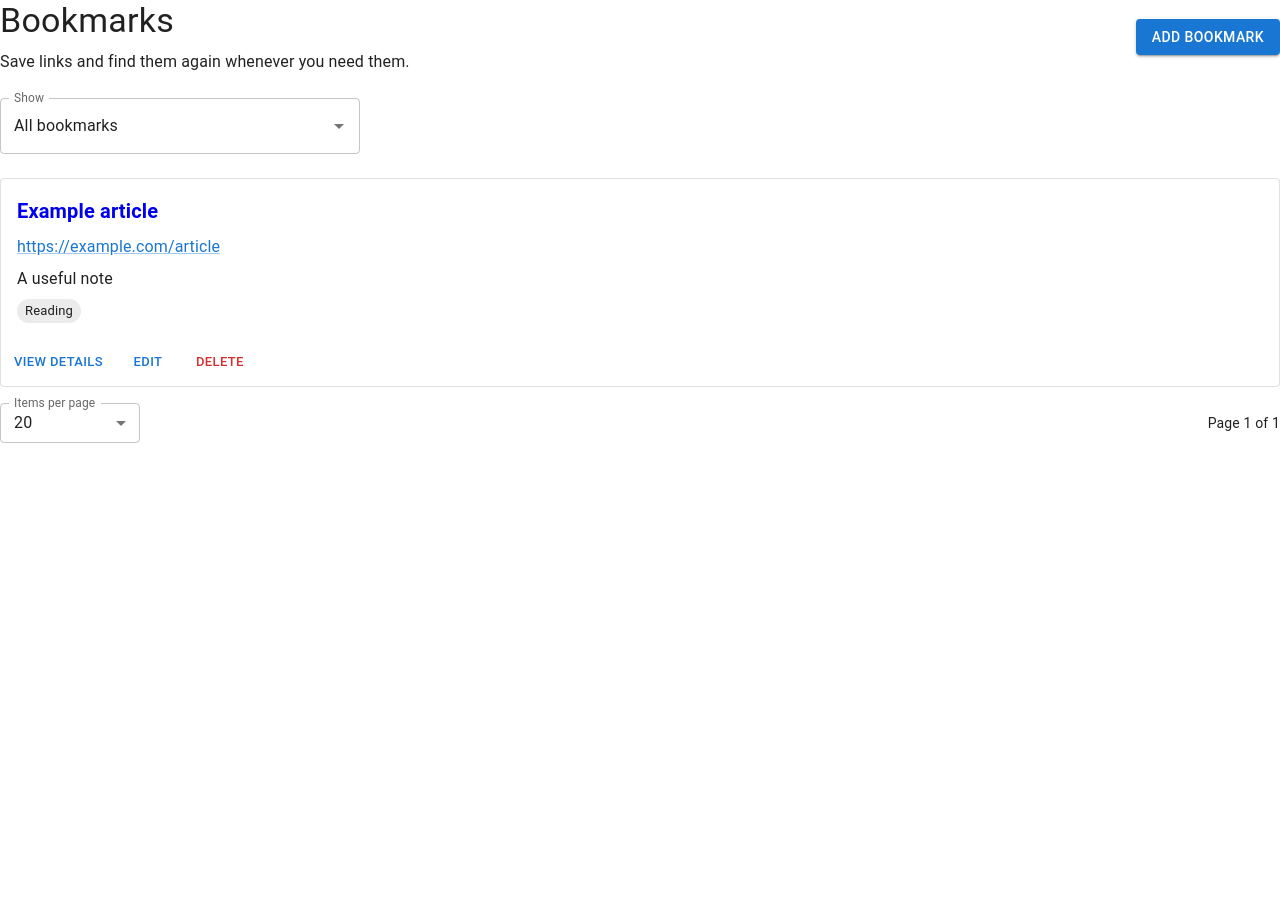
BookmarksPage › creates through the shared dialog and refreshes the active page after success
Expected: the link "Example article" is shown, [17,199,158,223]
Click the button "Add bookmark" at (1208, 37), box [1136,19,1279,55]
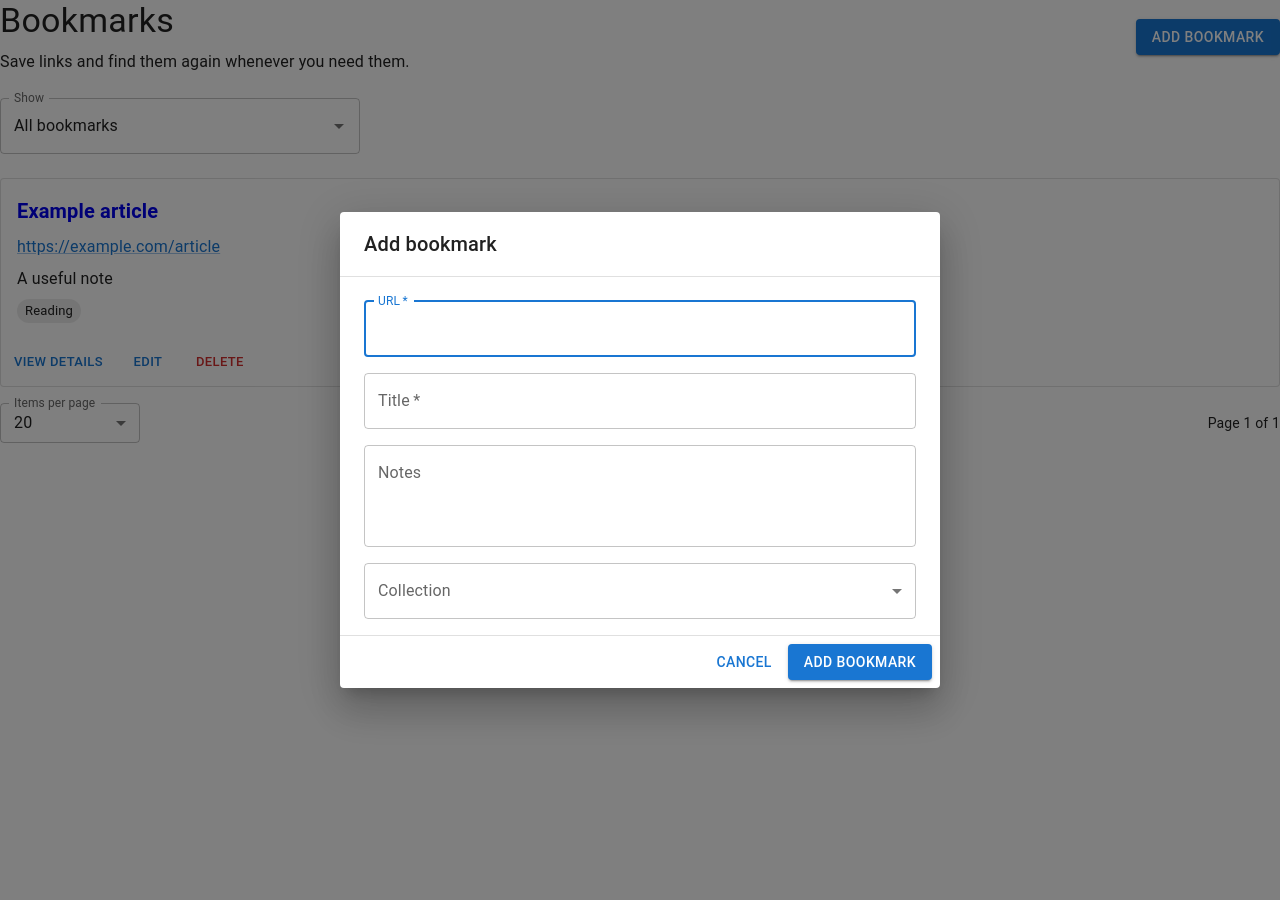
Type "https://example.com/created" into the field labelled "URL *" at (640, 329), box [364,301,916,357]
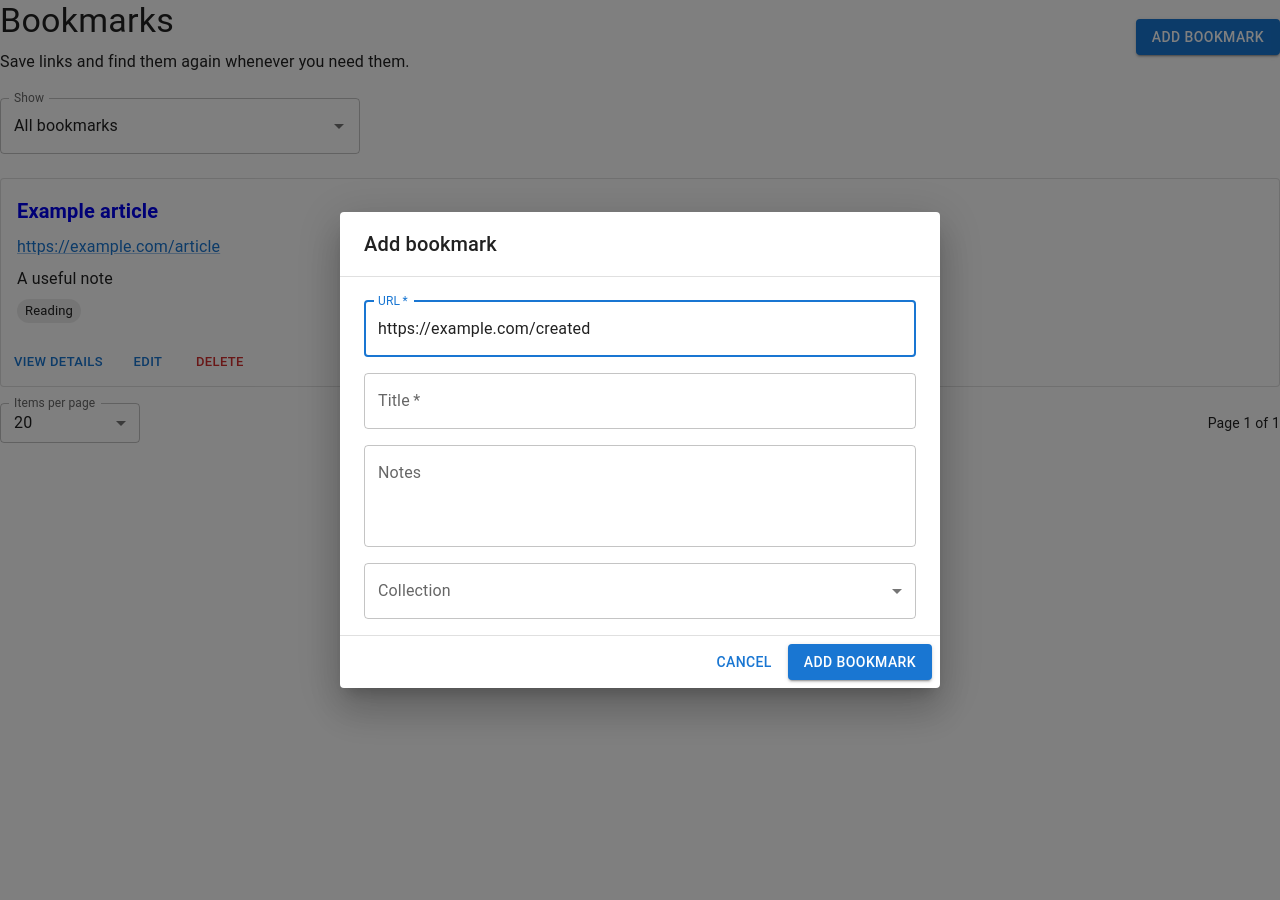
Type "Created bookmark" into the field labelled "Title *" at (640, 401), box [364,373,916,429]
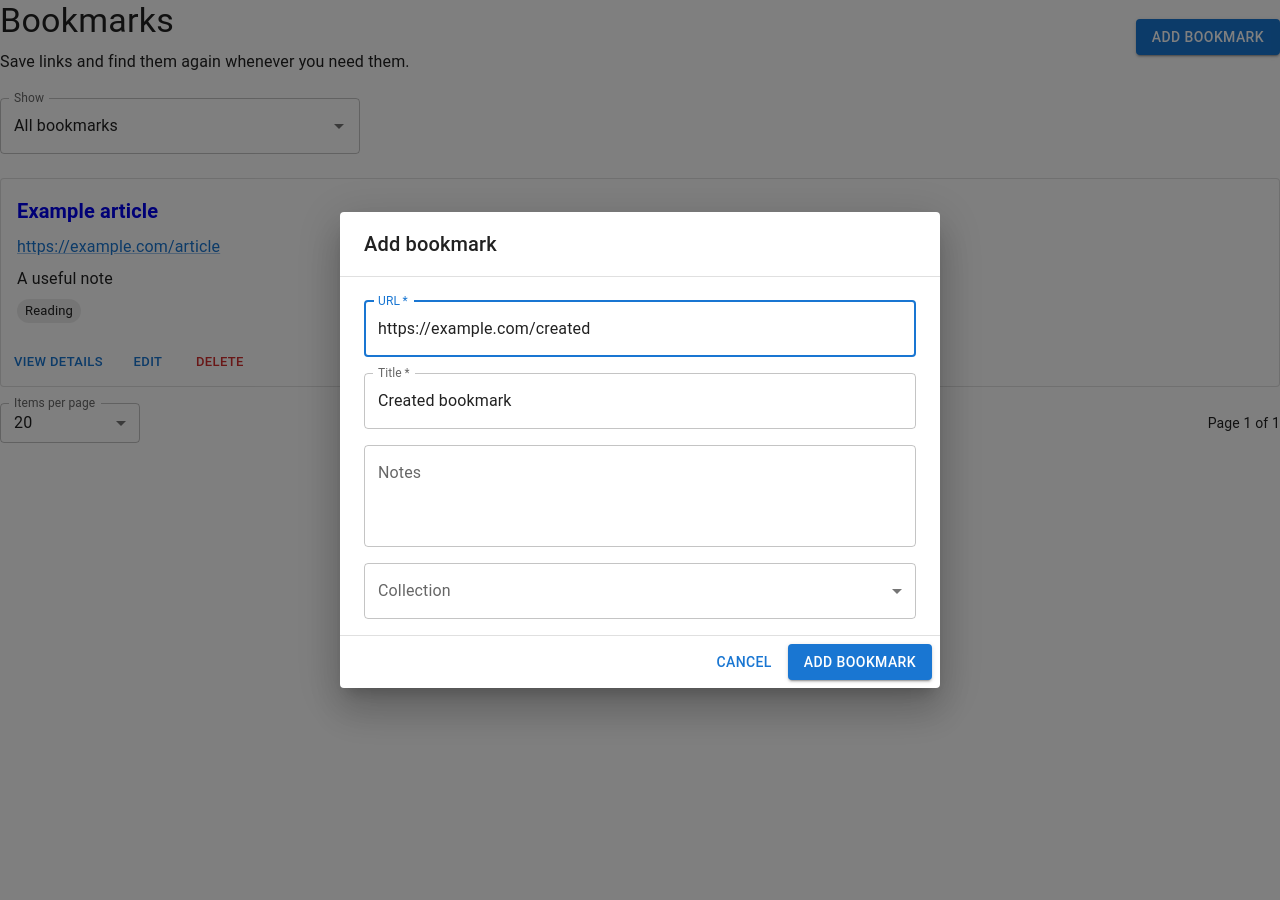
Click the button "Add bookmark" at (860, 662), box [788,644,932,680]
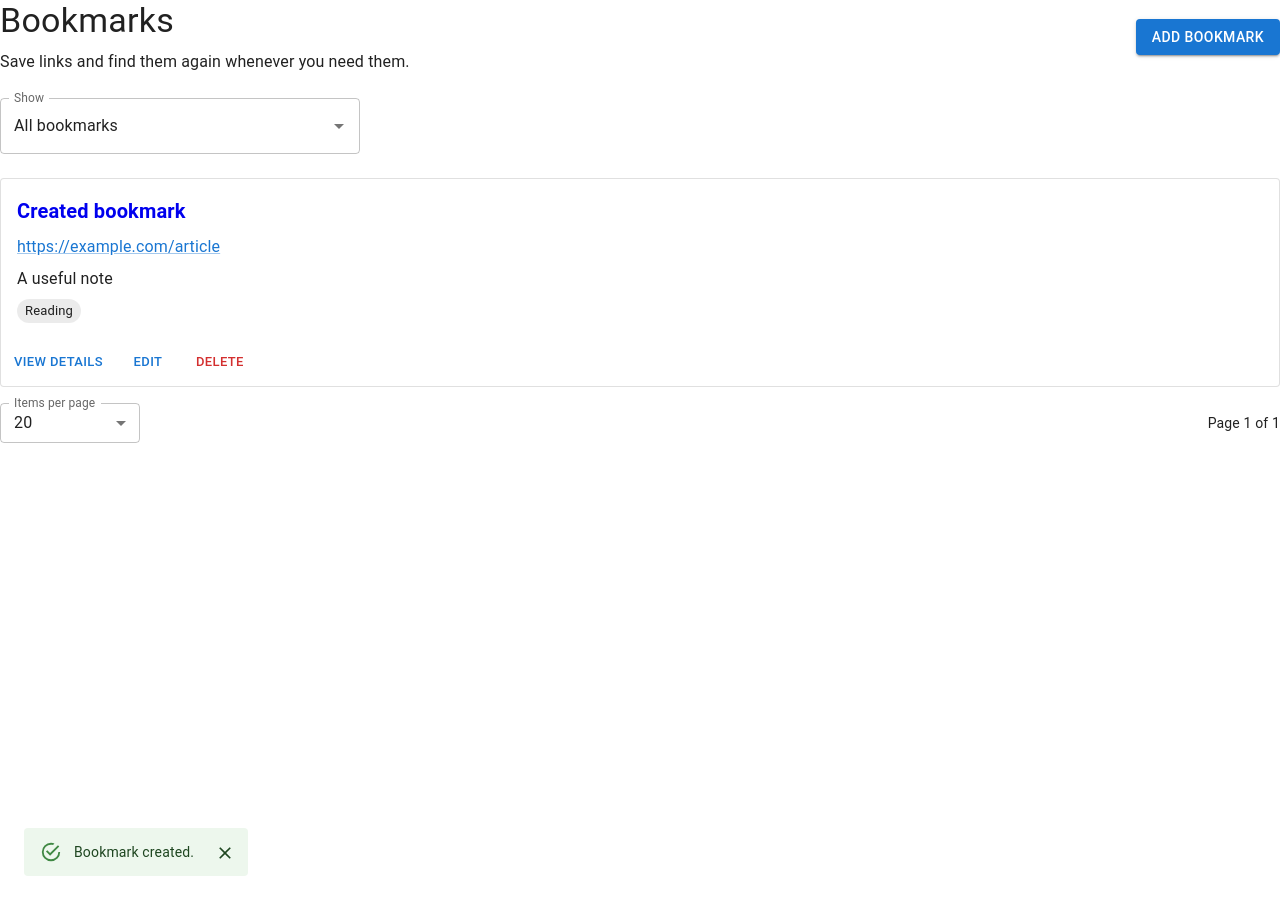
Expected: the link "Created bookmark" is shown, [17,199,186,223]
